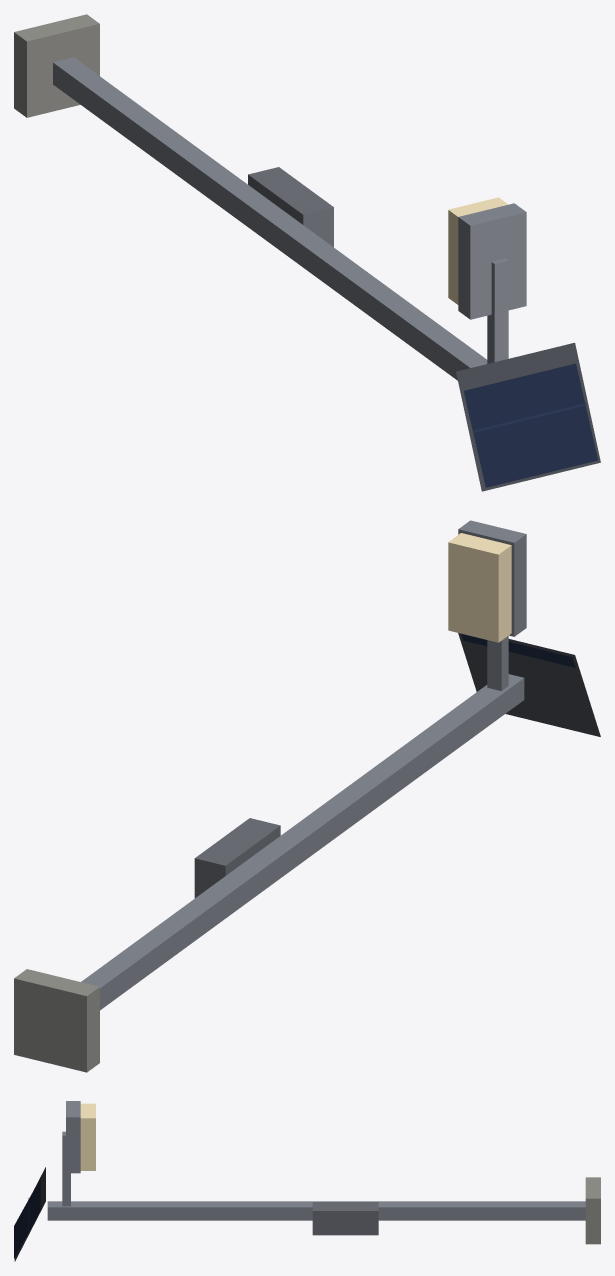
The model's file is lamp_ground_street_on_S.obj.
3 views of the same model, one above another, from view 1: azimuth 30°, elevation 25°; view 2: azimuth 150°, elevation 25°; view 3: azimuth 270°, elevation 25° (orthographic). The views are drawn at different scales.
Visible parts, largest first — view 1: lamp_ground_street_on_S; view 2: lamp_ground_street_on_S; view 3: lamp_ground_street_on_S.
Part boxes in pixels (left/top/right/bottom): lamp_ground_street_on_S: left=14, top=14, right=600, bottom=491; lamp_ground_street_on_S: left=14, top=520, right=600, bottom=1072; lamp_ground_street_on_S: left=14, top=1101, right=600, bottom=1261.
Bounding box in the file's own units: 0.424 × 0.7724 × 3.03.
Materials: 1 (1 with a texture image).
